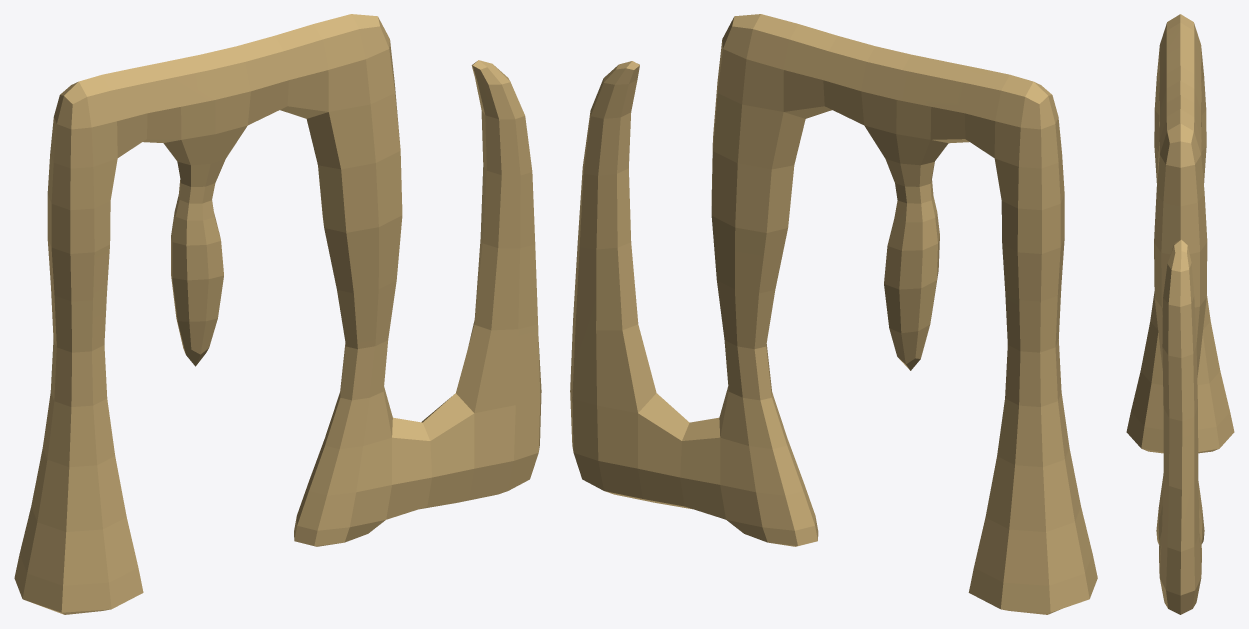
Rendered from Ruinas_2.fbx.
3 views of the same model, side by side, from view 1: azimuth 30°, elevation 25°; view 2: azimuth 150°, elevation 25°; view 3: azimuth 270°, elevation 25° (orthographic). The views are drawn at different scales.
Parts seen in each view (by area): view 1: Ruina_1; view 2: Ruina_1; view 3: Ruina_1.
Boxes of the visible parts, left/top/right/bottom form: Ruina_1: left=14, top=14, right=541, bottom=614; Ruina_1: left=570, top=14, right=1097, bottom=614; Ruina_1: left=1126, top=14, right=1234, bottom=614.
Bounding box in the file's own units: 51.61 × 49.2 × 11.21.
